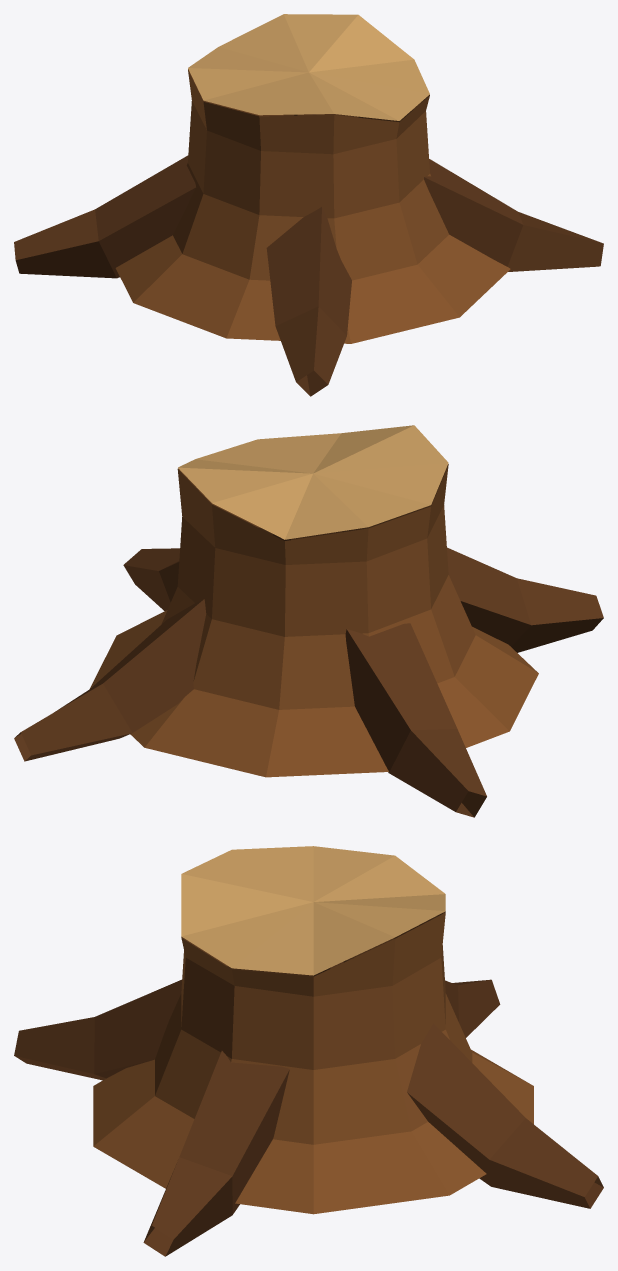
Rendered from souche.glb.
3 renders of one model, top to bottom at view 1: azimuth 30°, elevation 25°; view 2: azimuth 150°, elevation 25°; view 3: azimuth 270°, elevation 25°, orthographic. The views are drawn at different scales.
Parts seen in each view (by area): view 1: souche; view 2: souche; view 3: souche.
Part boxes in pixels (box(x1,y1,x2,y2)): souche: box(14, 14, 603, 396); souche: box(14, 425, 603, 817); souche: box(14, 846, 603, 1256).
Size of the model in its own units: 1.3 by 0.5816 by 1.27.
